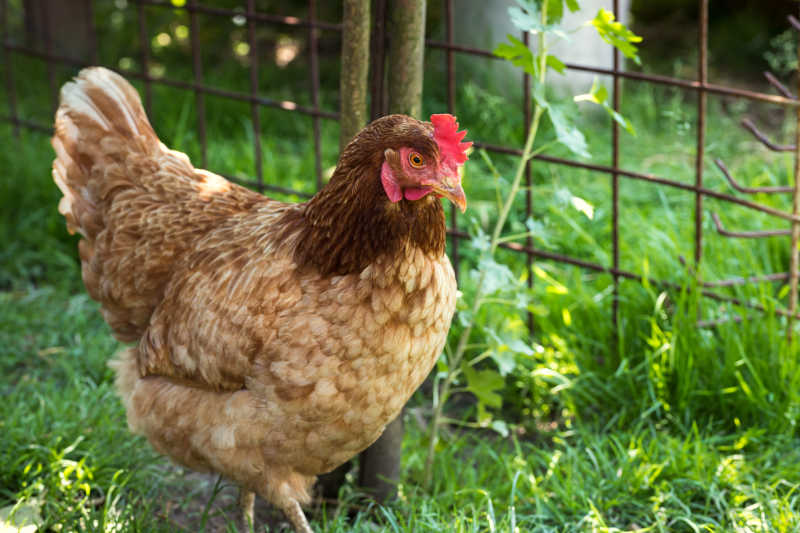chicken: (47, 64, 475, 532)
